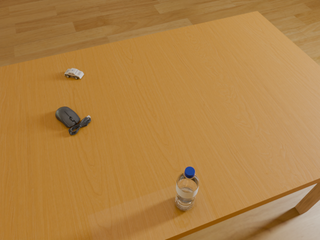bottle: (175, 167, 199, 211)
mouse: (55, 107, 91, 135)
toy_car: (64, 68, 84, 79)
